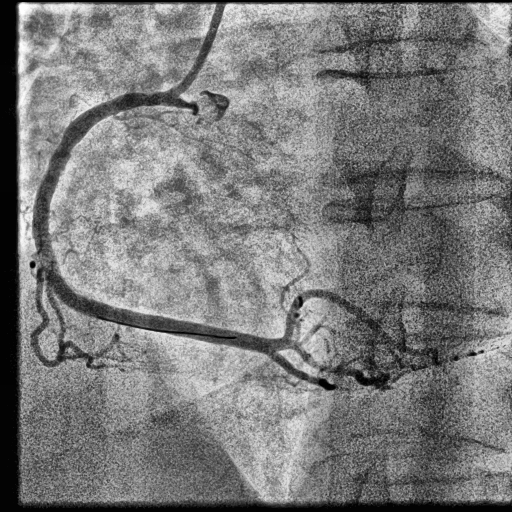pborca: (272, 288, 421, 354)
pda: (268, 352, 333, 390)
rca: (33, 92, 273, 354)
